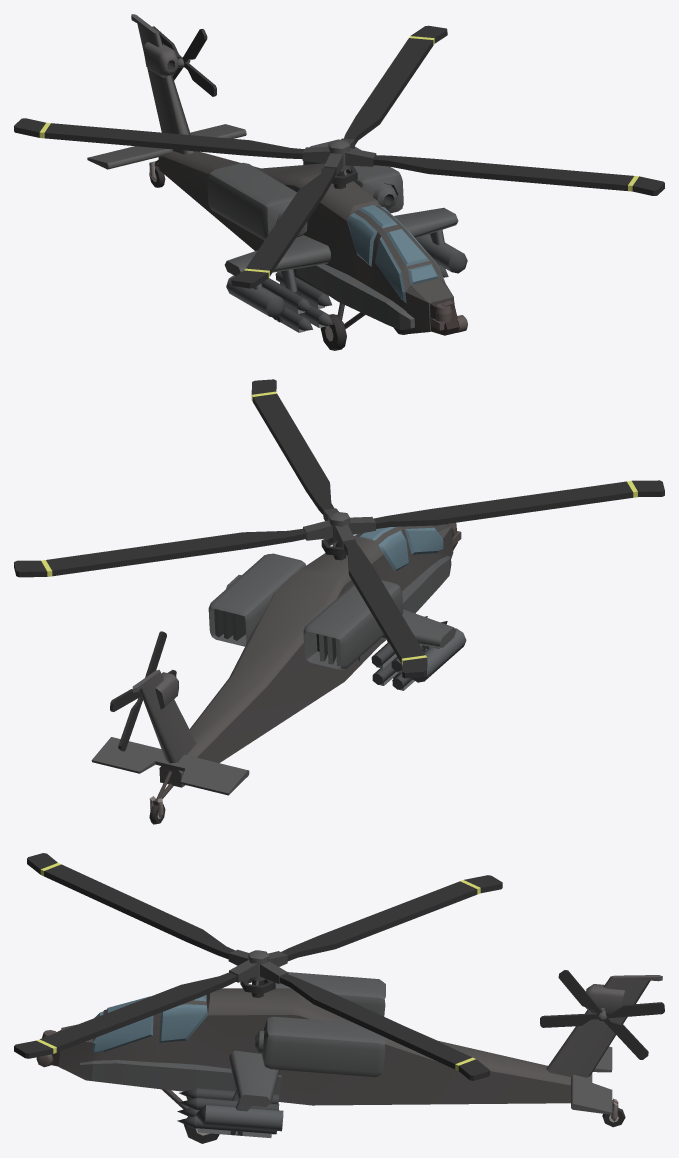
Rendered from Helicopter_001.glb.
3 views of the same model, one above another, from view 1: azimuth 30°, elevation 25°; view 2: azimuth 150°, elevation 25°; view 3: azimuth 270°, elevation 25° (orthographic). The views are drawn at different scales.
Visible parts, largest first — view 1: Helicopter_001, Blade_001, Blade_002; view 2: Helicopter_001, Blade_001, Blade_002; view 3: Helicopter_001, Blade_001, Blade_002.
Boxes of the visible parts, x1,y1,x2,y2 form: Helicopter_001: [87, 14, 467, 350]; Blade_001: [14, 25, 664, 288]; Blade_002: [152, 26, 216, 96]; Helicopter_001: [91, 522, 466, 824]; Blade_001: [14, 379, 664, 678]; Blade_002: [110, 631, 176, 751]; Helicopter_001: [36, 972, 662, 1143]; Blade_001: [14, 853, 502, 1080]; Blade_002: [540, 970, 664, 1059].
Size of the model in its own units: 11.47 by 4.59 by 15.28.
Materials: 1 (1 with a texture image).
